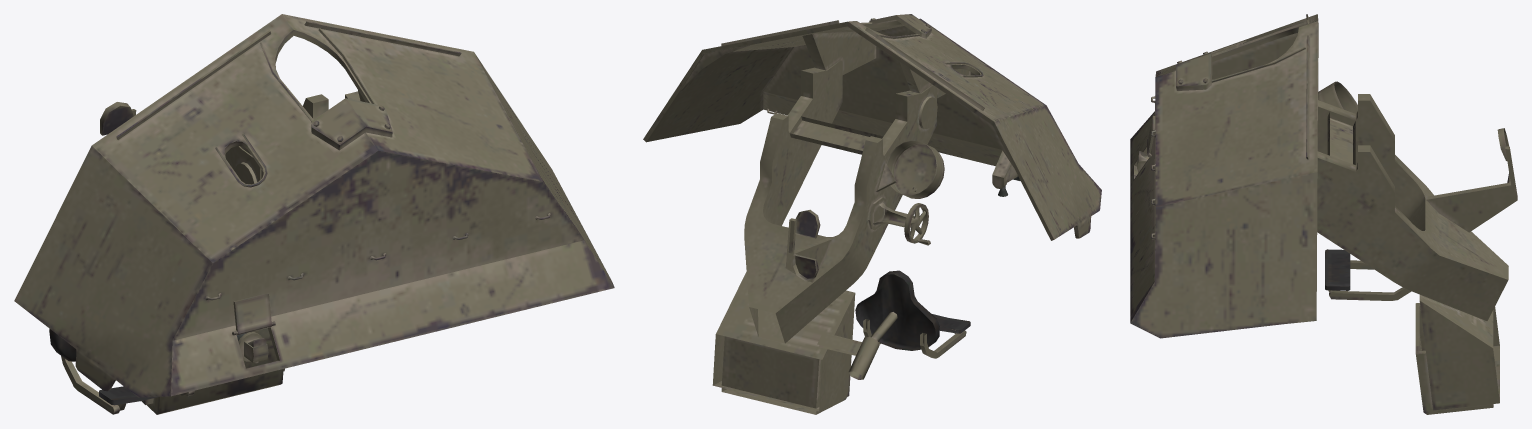
Rendered from Turret_01.glb.
3 views of the same model, side by side, from view 1: azimuth 30°, elevation 25°; view 2: azimuth 150°, elevation 25°; view 3: azimuth 270°, elevation 25° (orthographic). The views are drawn at different scales.
Visible parts, largest first — view 1: set_0_group_0; view 2: set_0_group_0; view 3: set_0_group_0.
Part boxes in pixels (bbox=[...]): set_0_group_0: bbox=[14, 14, 614, 414]; set_0_group_0: bbox=[643, 14, 1101, 414]; set_0_group_0: bbox=[1130, 14, 1517, 414].
Size of the model in its own units: 2.14 by 1.65 by 1.57.
1 material, 1 textured.
